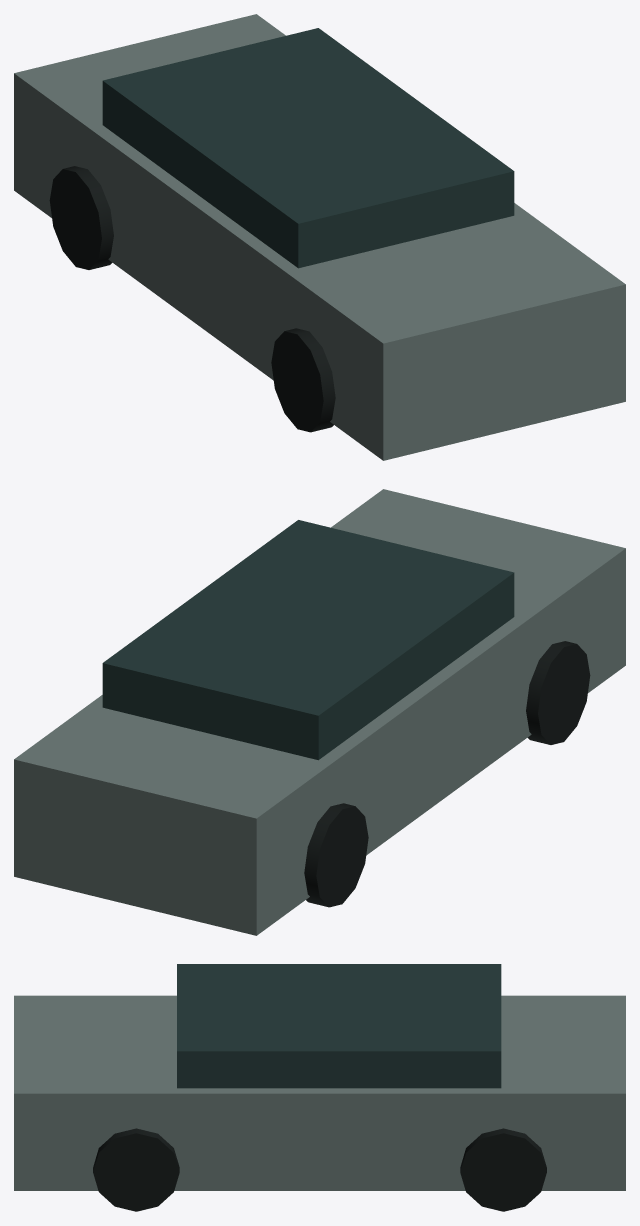
The model's file is car-utility.glb.
3 renders of one model, top to bottom at view 1: azimuth 30°, elevation 25°; view 2: azimuth 150°, elevation 25°; view 3: azimuth 270°, elevation 25°, orthographic. The views are drawn at different scales.
Parts seen in each view (by area): view 1: car-utility; view 2: car-utility; view 3: car-utility.
Part boxes in pixels (x1=…): car-utility: x1=14, y1=14, x2=625, y2=460; car-utility: x1=14, y1=489, x2=625, y2=935; car-utility: x1=14, y1=964, x2=625, y2=1211.
Bounding box in the file's own units: 2 × 1.3 × 4.8.
